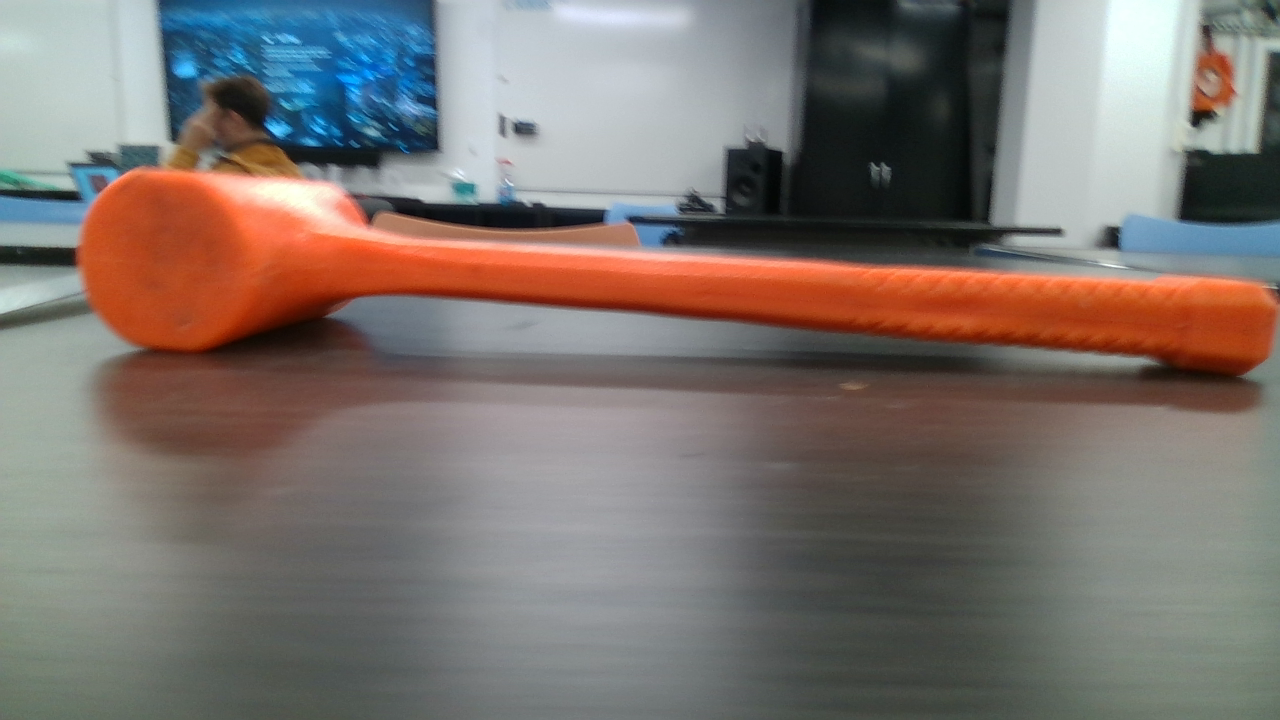Orange Hammer: (76, 167, 1280, 375)
